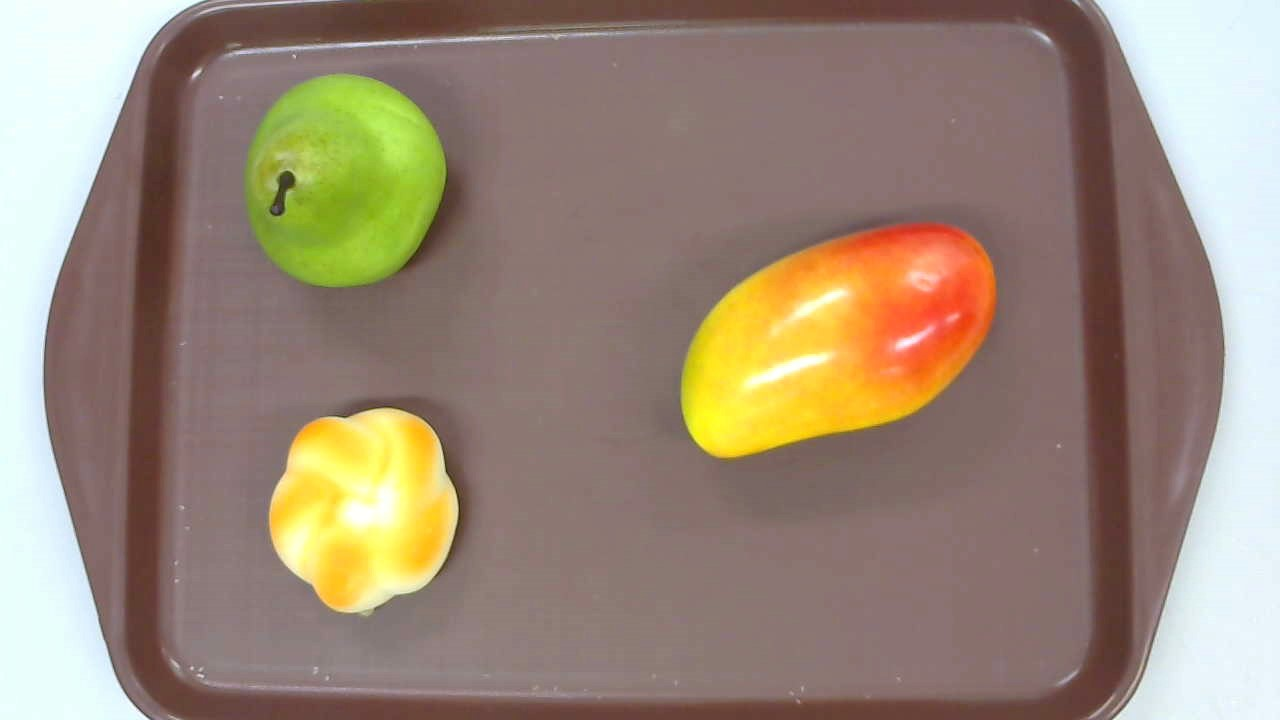green pear: (242, 72, 447, 290)
red mango: (679, 221, 997, 460)
twist bread: (268, 407, 459, 611)
